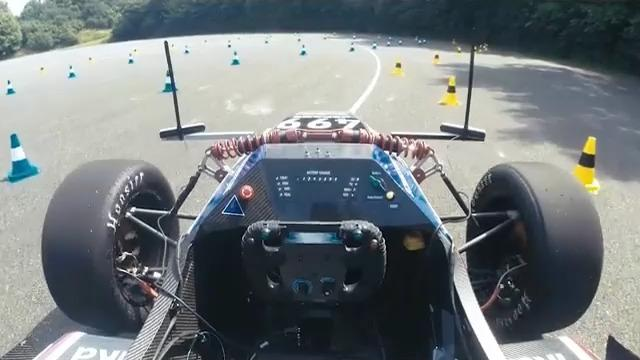blue_cone: (5, 134, 41, 186), (161, 70, 179, 94), (5, 79, 16, 96), (231, 51, 241, 66), (68, 65, 76, 79)
yellow_cone: (564, 136, 602, 194), (439, 75, 462, 107), (389, 57, 405, 77)
